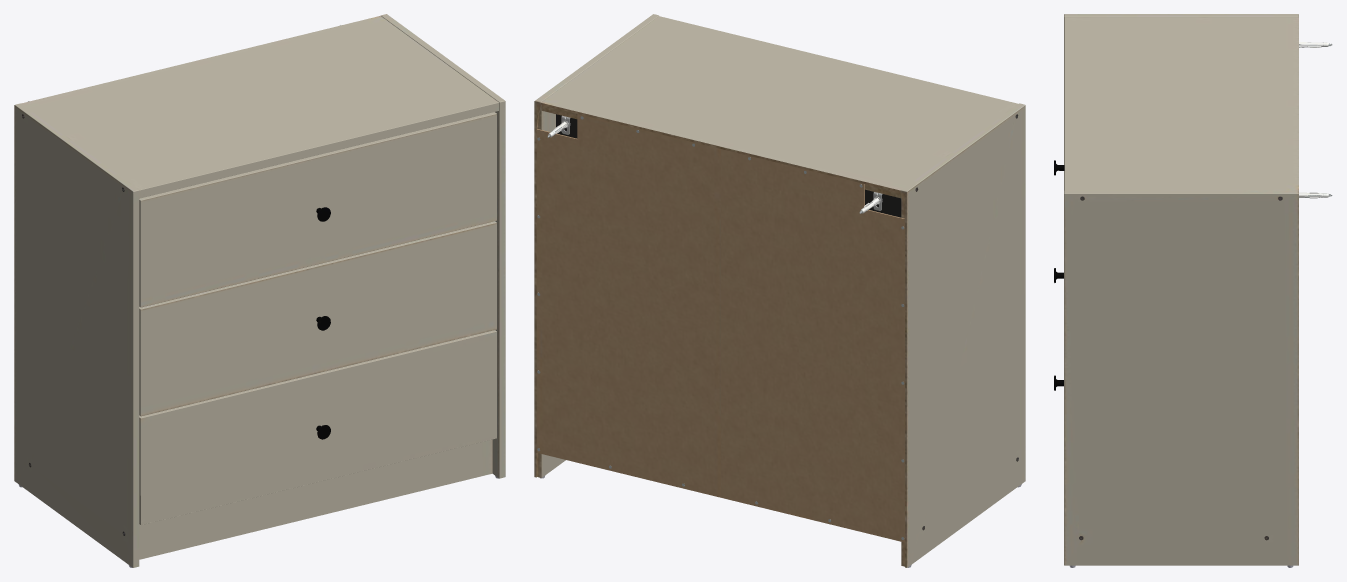
The model's file is gursken_komoda_3_szuflady_00486327.glb.
3 renders of one model, left to right at view 1: azimuth 30°, elevation 25°; view 2: azimuth 150°, elevation 25°; view 3: azimuth 270°, elevation 25°, orthographic.
Visible parts, largest first — view 1: gursken_komoda_3_szuflady_00486327; view 2: gursken_komoda_3_szuflady_00486327; view 3: gursken_komoda_3_szuflady_00486327.
Boxes of the visible parts, x1,y1,x2,y2 form: gursken_komoda_3_szuflady_00486327: [14, 14, 505, 567]; gursken_komoda_3_szuflady_00486327: [534, 14, 1025, 567]; gursken_komoda_3_szuflady_00486327: [1054, 14, 1332, 567].
Size of the model in its own units: 0.6903 by 0.669 by 0.4509.
1 material, 1 textured.
